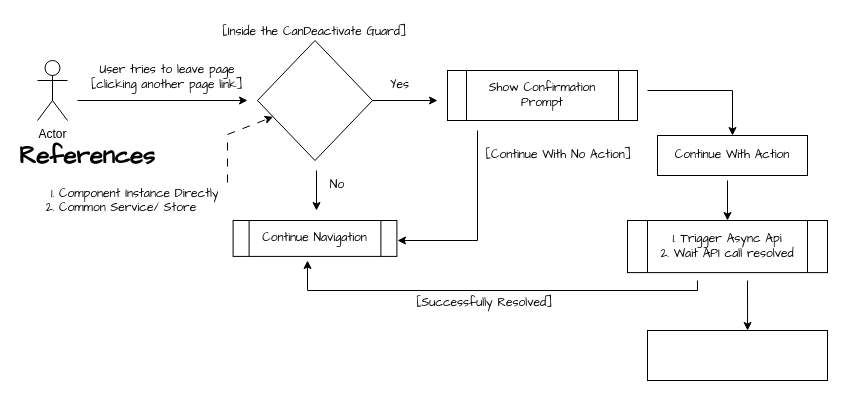
This 845x398 diagram has some shape labels left out. The shapes that lost their labels are listed below. From the top down, each one's centre as x and y in pixels, then its label:
point (314, 100): Has Unsaved Changes
point (737, 355): Cancel Navigation
